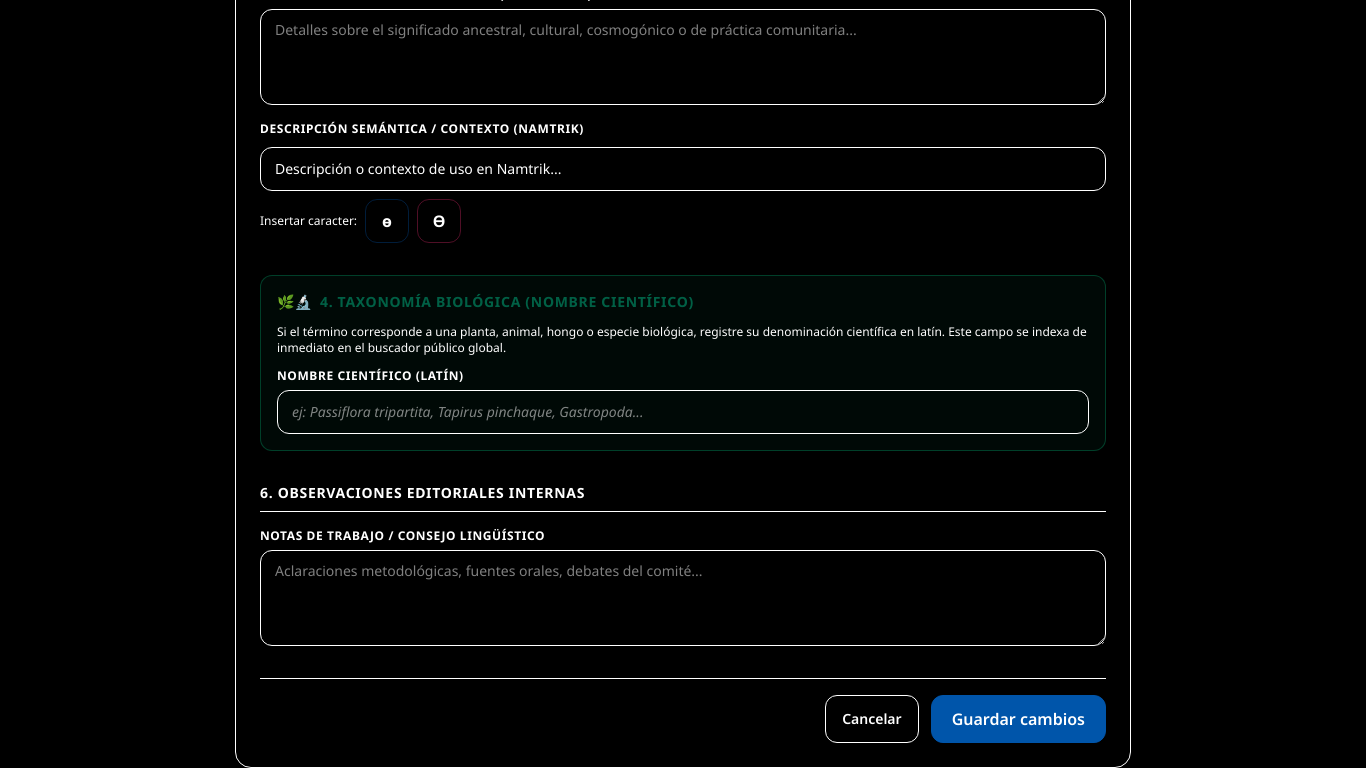
SentidoEditorPage (T-044, R-007, R-008, R-010, R-022) › abre ConflictoVersionDialog ante error 409 y permite sobrescribir con nueva versión (R-007)
(page scrolled)
Click the button "Guardar cambios": (1018, 719) [931,695,1106,743]
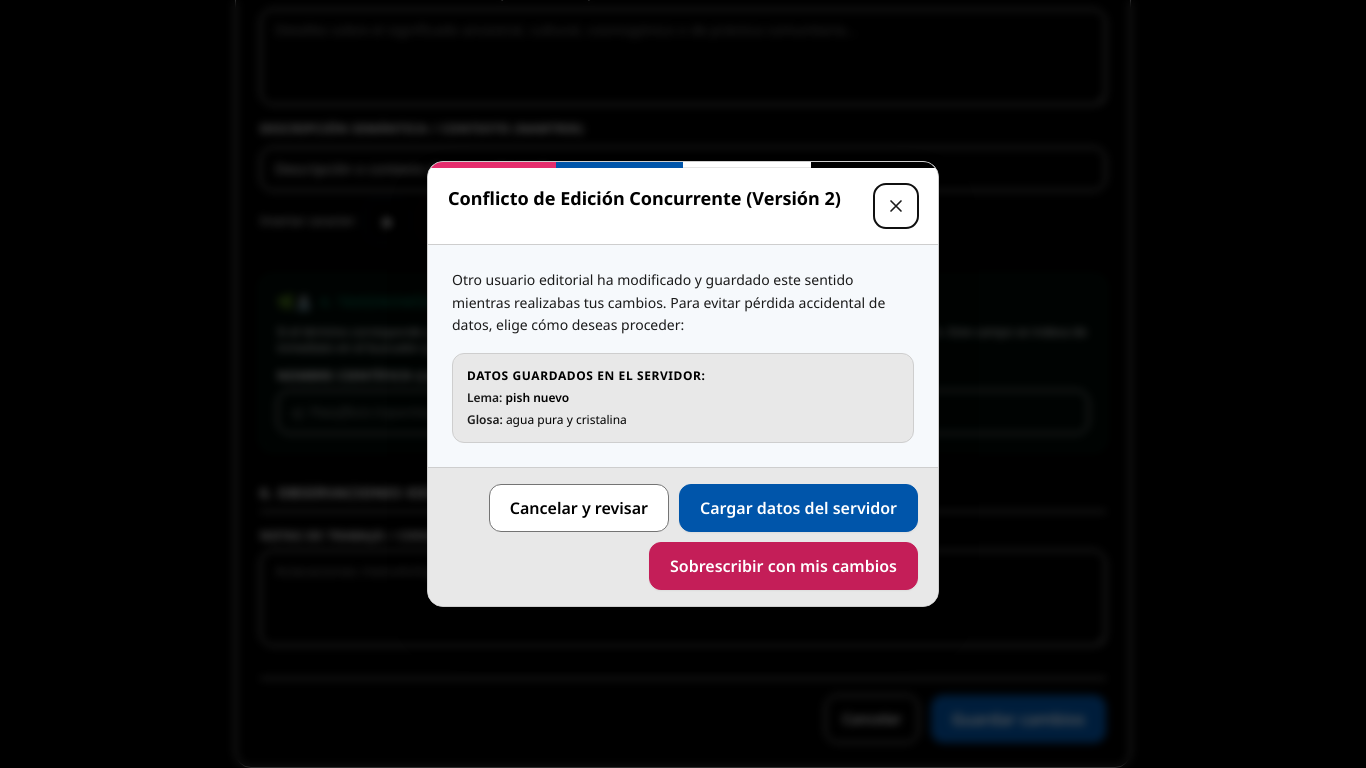
expect the dialog is shown: met, box [427,161,939,607]
expect the heading "Conflicto de Edición Concurrente (Versión 2)" is shown: met, box [448,184,841,212]
Clic en sobrescribir
Click the button "Sobrescribir con mis cambios": (784, 566) [649,542,918,590]
(page scrolled)
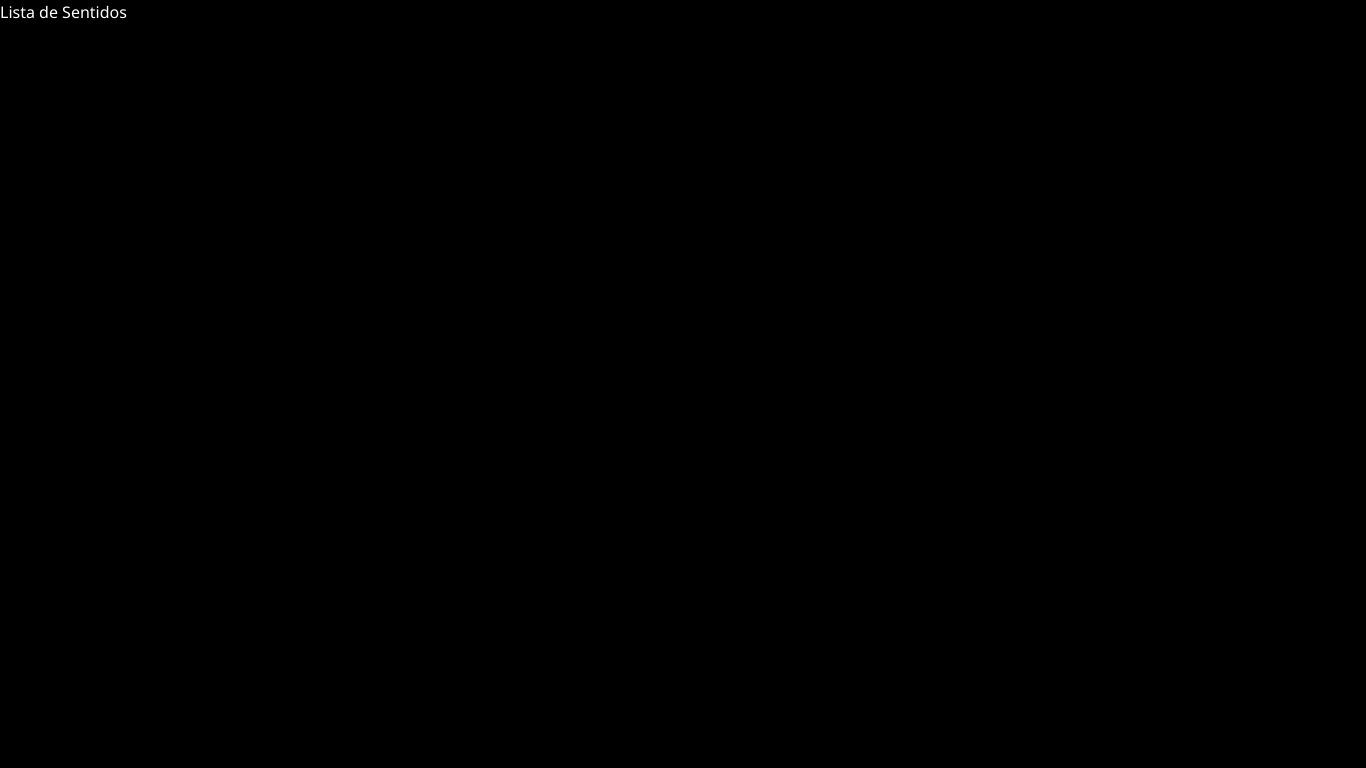
expect the text "Lista de Sentidos" is shown: met, box [0,1,127,23]
